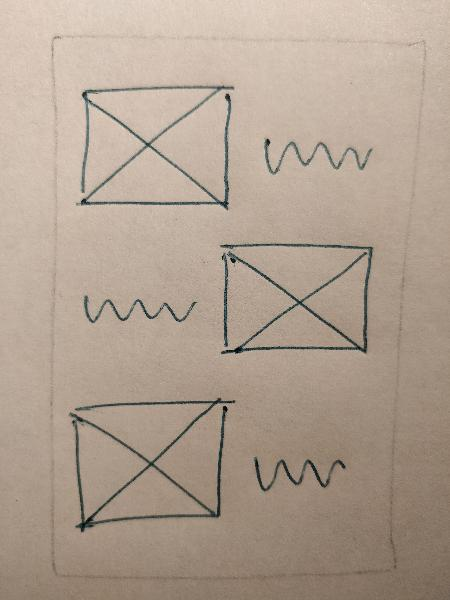image: (65, 395, 236, 537), (75, 73, 234, 215), (212, 237, 378, 361)
text: (254, 126, 379, 189), (76, 284, 205, 338), (244, 444, 352, 501)
